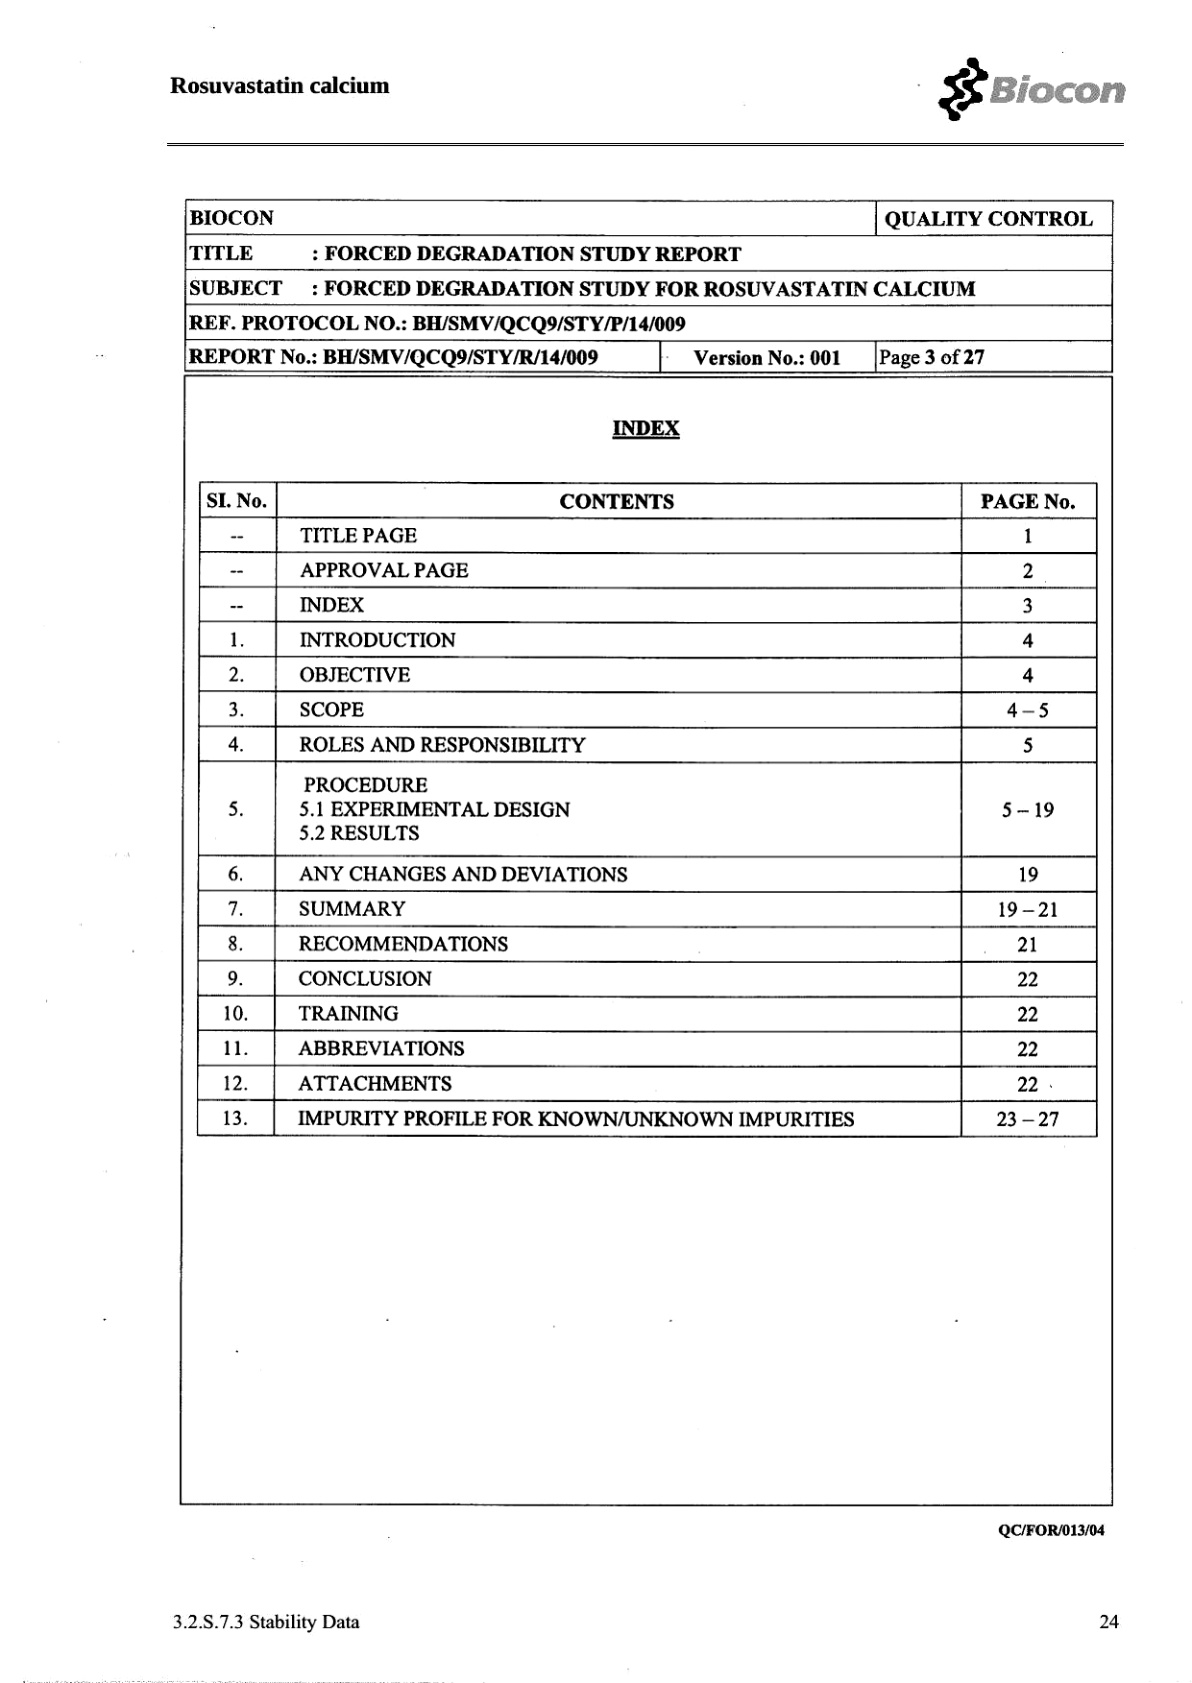full_lined: (197, 480, 1098, 1139)
merged_cells: (183, 199, 1113, 374)
